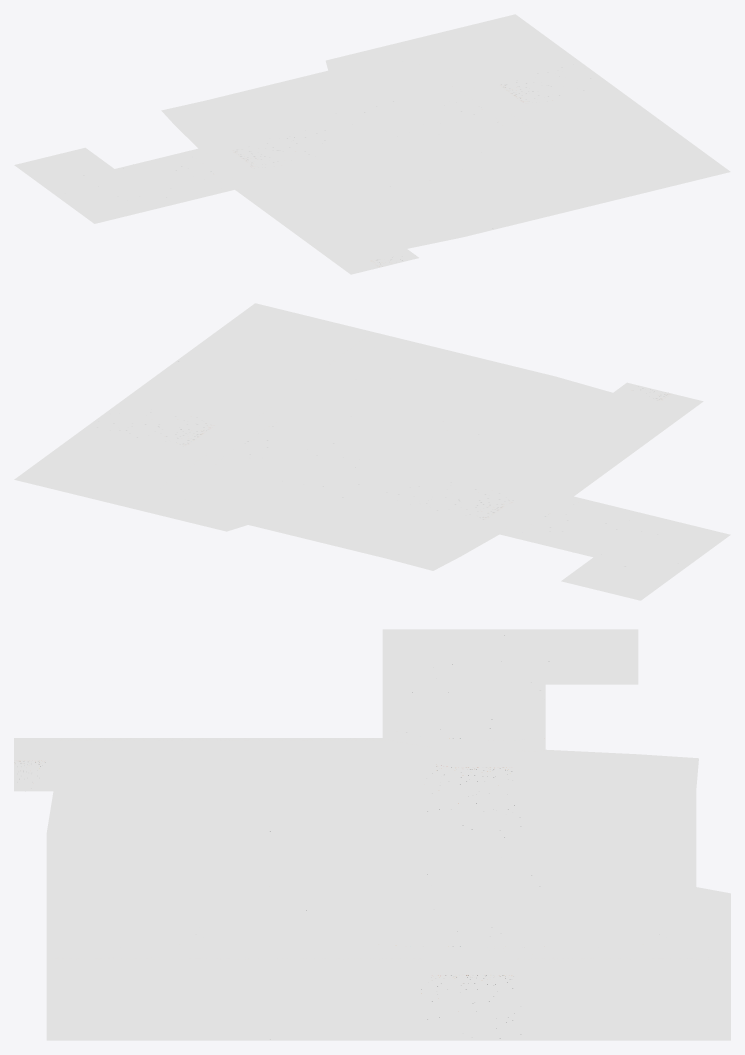
Rendered from navmeshh.glb.
3 views of the same model, one above another, from view 1: azimuth 30°, elevation 25°; view 2: azimuth 150°, elevation 25°; view 3: azimuth 270°, elevation 25° (orthographic). The views are drawn at different scales.
Visible parts, largest first — view 1: doorway.003; view 2: doorway.003; view 3: doorway.003.
Part boxes in pixels (left/top/right/bottom): doorway.003: left=14, top=14, right=730, bottom=274; doorway.003: left=14, top=303, right=730, bottom=600; doorway.003: left=14, top=629, right=730, bottom=1040.
Size of the model in its own units: 8.08 by 4.49e-07 by 5.96.
1 material, 1 textured.
